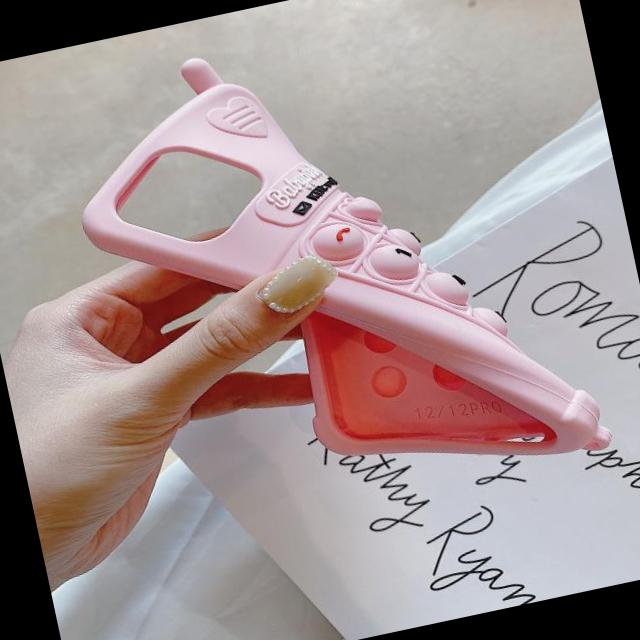Nail: (257, 256, 336, 311)
